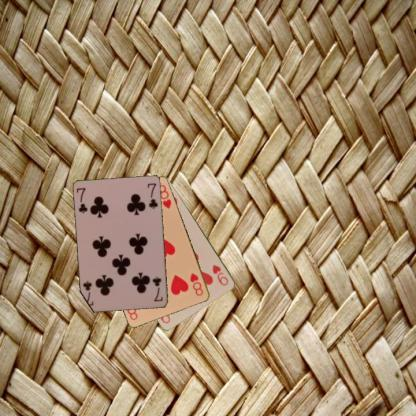7c: (74, 185, 89, 215), (150, 273, 164, 303)
8h: (188, 270, 204, 297)
9h: (209, 262, 230, 288)
